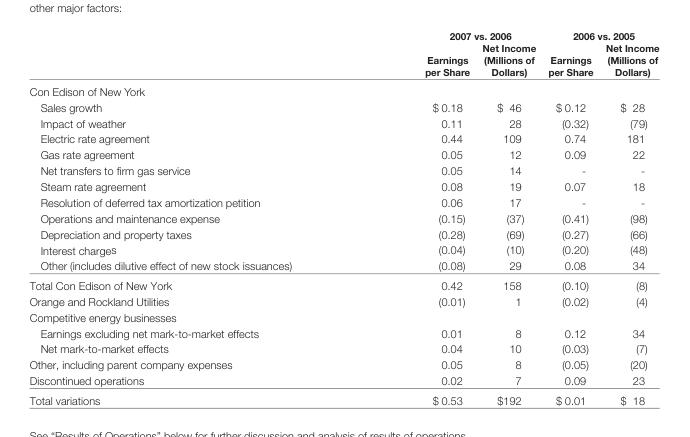table: (28, 29, 658, 406)
table column: (28, 29, 357, 406), (357, 29, 475, 406), (475, 29, 541, 406), (598, 29, 658, 406), (541, 29, 598, 406)
table column header: (28, 29, 658, 80)
table projected row header: (28, 80, 658, 98), (28, 308, 658, 324)
table row: (28, 41, 658, 80), (28, 80, 658, 98), (28, 257, 658, 275), (28, 275, 658, 292), (28, 372, 658, 389), (28, 389, 658, 406), (28, 98, 658, 114), (28, 114, 658, 130), (28, 130, 658, 146), (28, 146, 658, 162), (28, 177, 658, 193), (28, 193, 658, 209), (28, 209, 658, 225), (28, 225, 658, 241), (28, 241, 658, 257), (28, 292, 658, 308), (28, 308, 658, 324), (28, 324, 658, 340), (28, 340, 658, 356), (28, 356, 658, 372), (28, 162, 658, 177), (28, 29, 658, 41)
table spanning cell: (357, 29, 541, 41), (541, 29, 658, 41)
